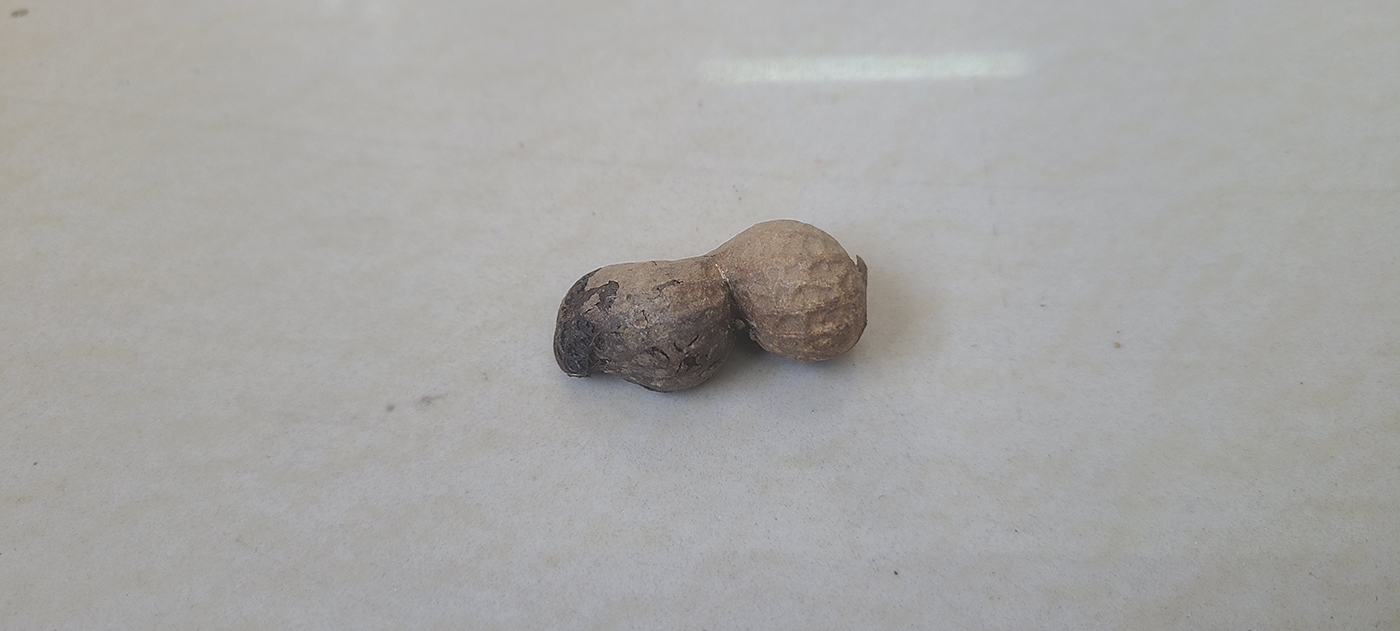l: (544, 214, 872, 398)
